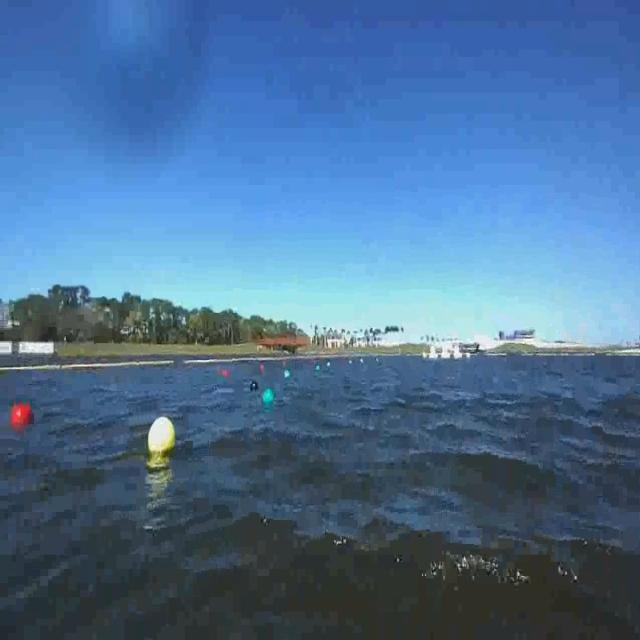black-buoy: (250, 374, 260, 396)
green-buoy: (264, 388, 276, 406)
red-buoy: (11, 405, 35, 432)
yellow-buoy: (148, 418, 175, 456)
